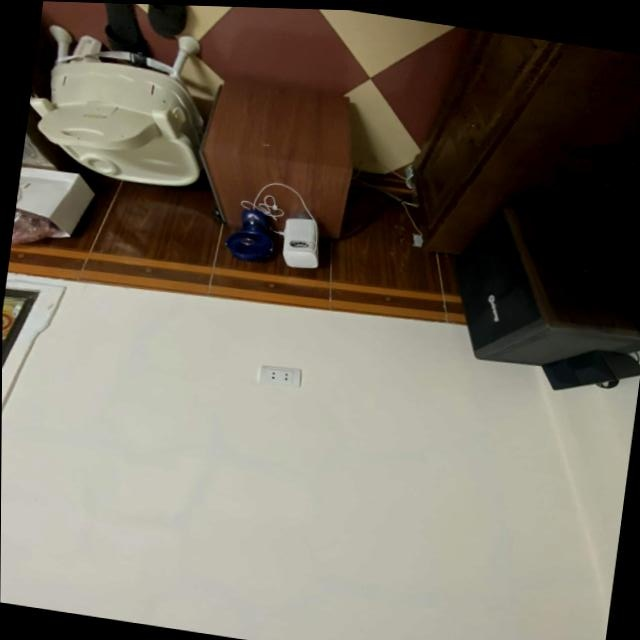outlet: (257, 364, 301, 390)
